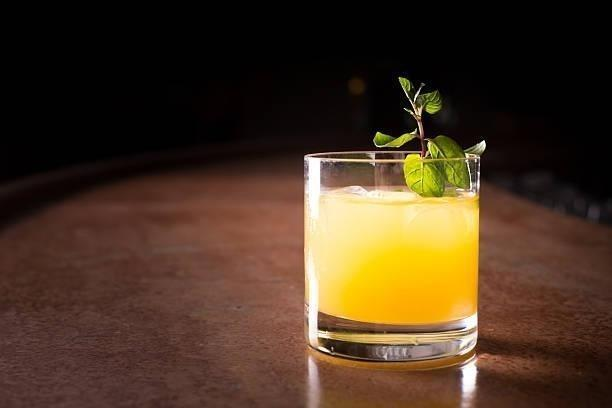glass-normal: (301, 147, 484, 367)
